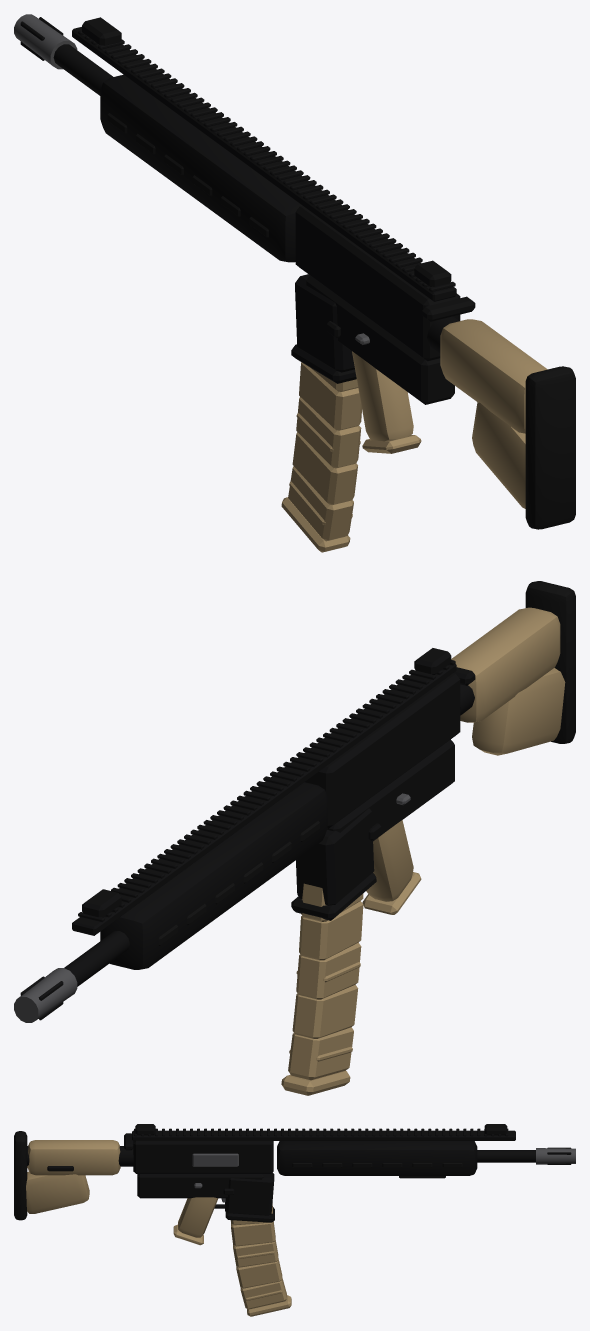
The model's file is nato_rifle.glb.
The picture shows the model from 3 angles, top to bottom: view 1: azimuth 30°, elevation 25°; view 2: azimuth 150°, elevation 25°; view 3: azimuth 270°, elevation 25°; orthographic projection. The views are drawn at different scales.
Parts seen in each view (by area): view 1: nato_rifle_LOD0; view 2: nato_rifle_LOD0; view 3: nato_rifle_LOD0.
Part boxes in pixels (box(x1,y1,x2,y2)): nato_rifle_LOD0: box(14, 14, 575, 552); nato_rifle_LOD0: box(14, 581, 575, 1095); nato_rifle_LOD0: box(14, 1124, 575, 1316).
Size of what is drawn, in the model's own units: 0.0495 by 0.3105 by 0.842.
